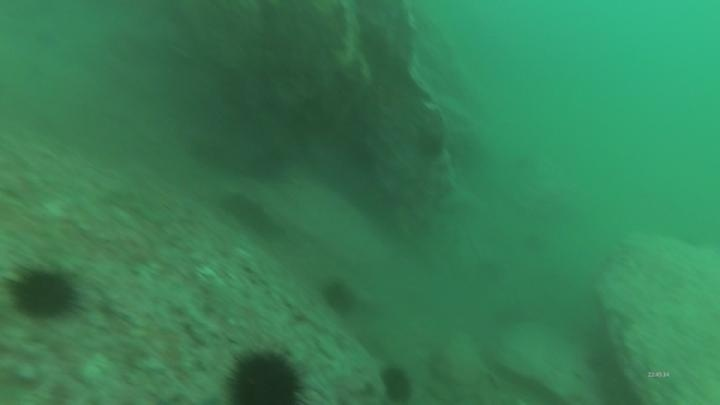echinus: (222, 345, 308, 405), (5, 261, 82, 325), (319, 277, 360, 317), (377, 363, 416, 404), (413, 129, 446, 162)
holothurian: (218, 189, 283, 238)
